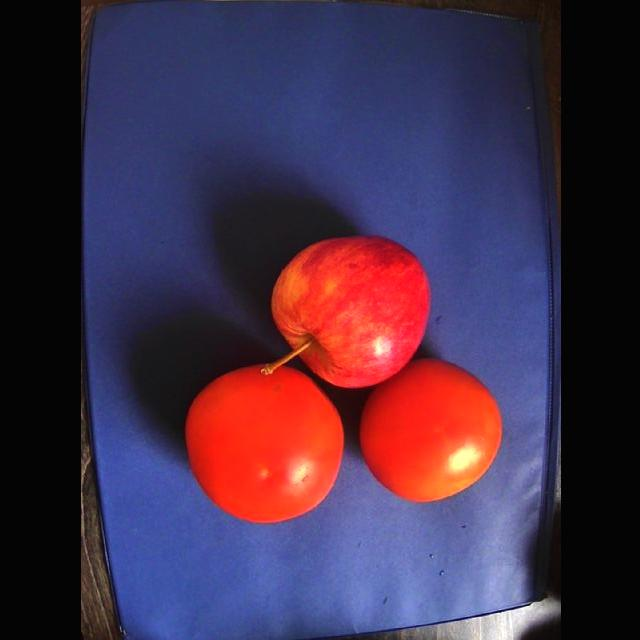manzana: (271, 236, 429, 387)
tomate: (186, 365, 343, 522), (360, 358, 501, 501)
